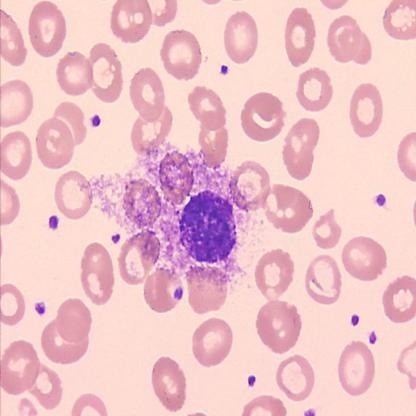Basophil: (177, 187, 239, 264)
